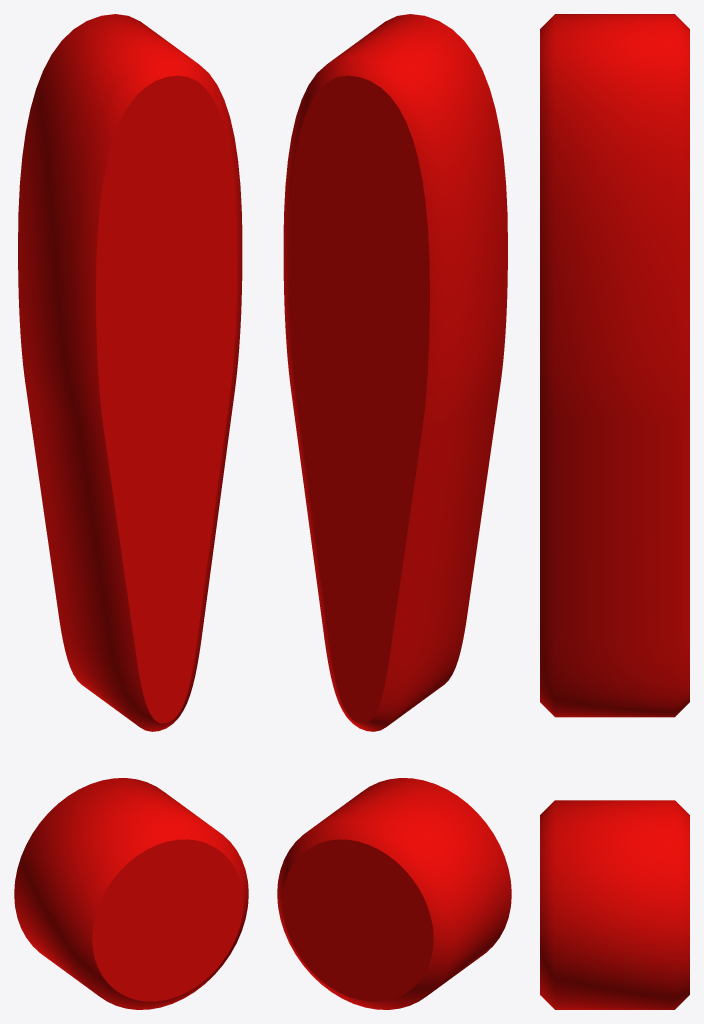
File: Alert.gltf
3 views of the same model, side by side, from view 1: azimuth 30°, elevation 25°; view 2: azimuth 150°, elevation 25°; view 3: azimuth 270°, elevation 25° (orthographic). The views are drawn at different scales.
Visible parts, largest first — view 1: Text; view 2: Text; view 3: Text.
Part boxes in pixels (x1,y1,x2,y2): Text: (14,14,248,1009); Text: (277,14,511,1009); Text: (540,14,689,1009).
Size of the model in its own units: 0.14 by 0.7201 by 0.1.
